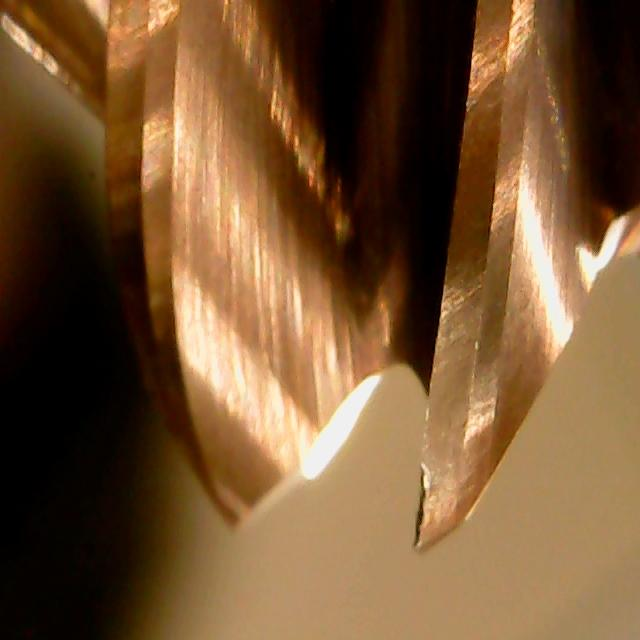Tool-wear-class-1: (406, 312, 502, 556)
